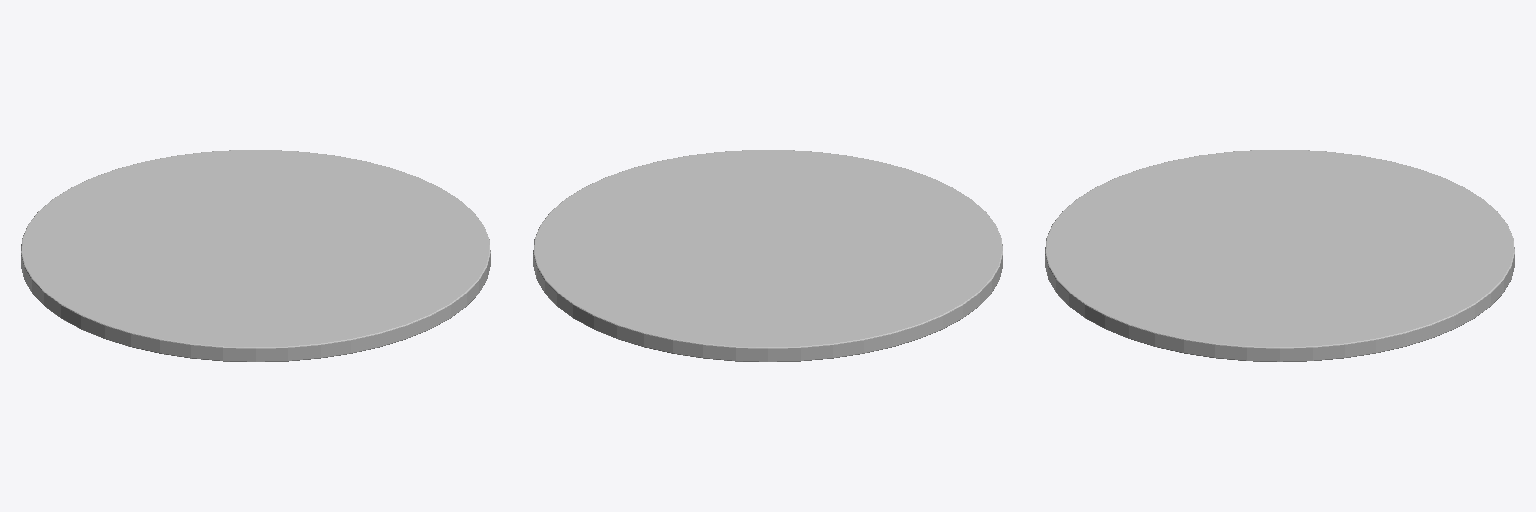
The model's file is hlafDollar.obj.
3 views of the same model, side by side, from view 1: azimuth 30°, elevation 25°; view 2: azimuth 150°, elevation 25°; view 3: azimuth 270°, elevation 25° (orthographic).
Parts seen in each view (by area): view 1: halfDollar; view 2: halfDollar; view 3: halfDollar.
Part boxes in pixels (x1,y1,x2,y2): halfDollar: (21,150,490,361); halfDollar: (533,150,1002,361); halfDollar: (1045,150,1514,361).
Size of the model in its own units: 1.6 by 0.056 by 1.6.